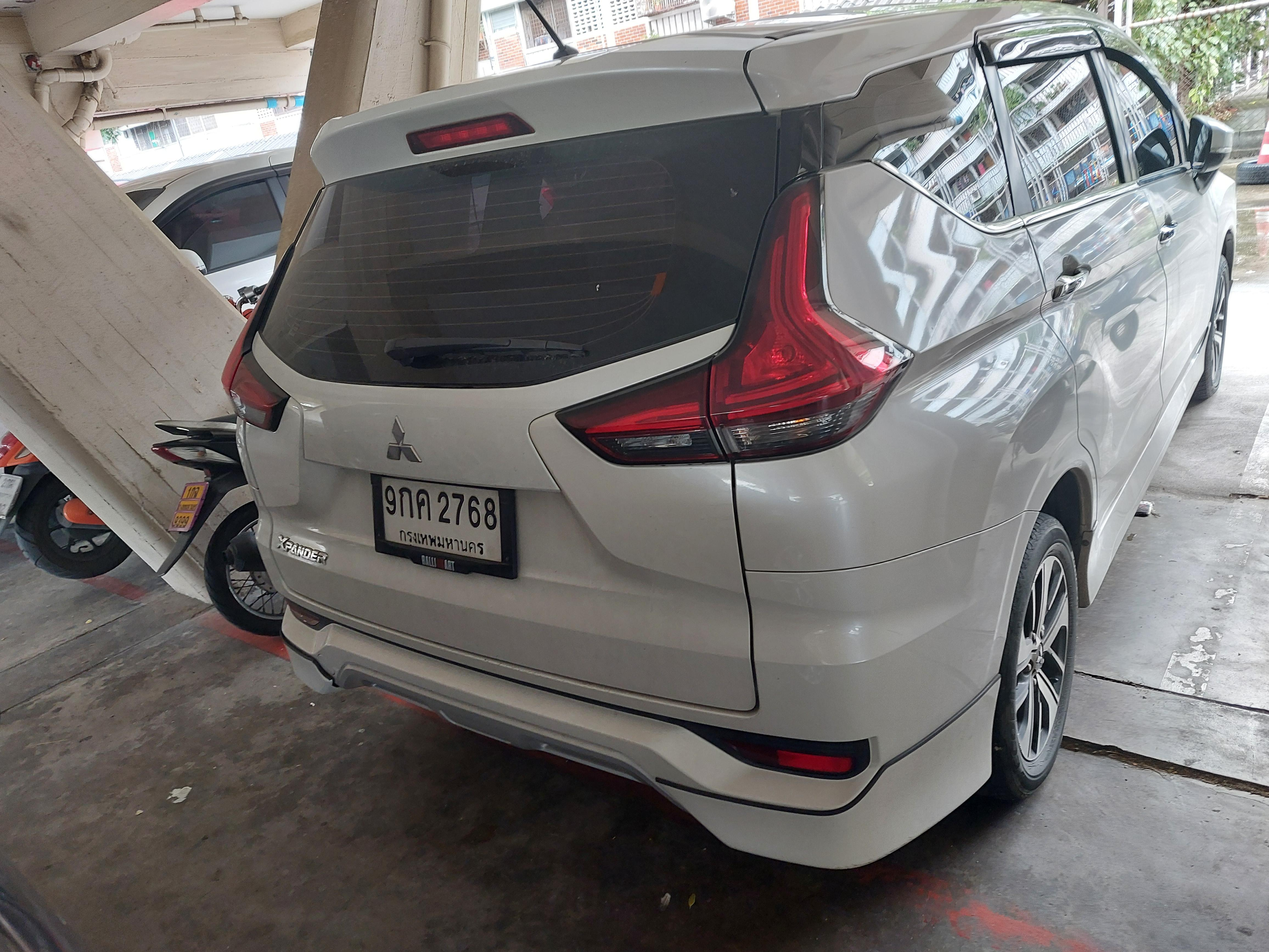license-plate: (368, 465, 521, 583)
